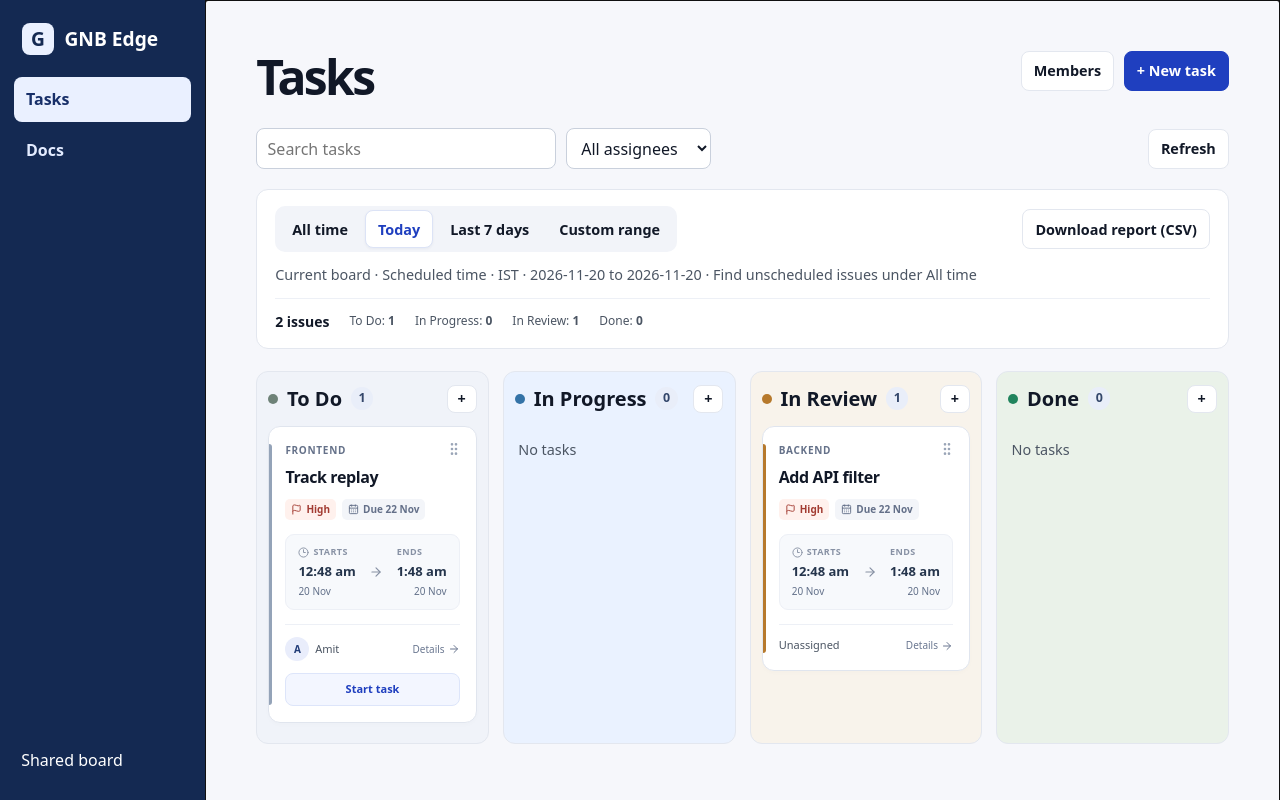
Test case: Existing board workflows in React › starts a task using its saved revision and updates the correct lane
Click the button "Start task" at (373,690), box [285, 673, 460, 706]
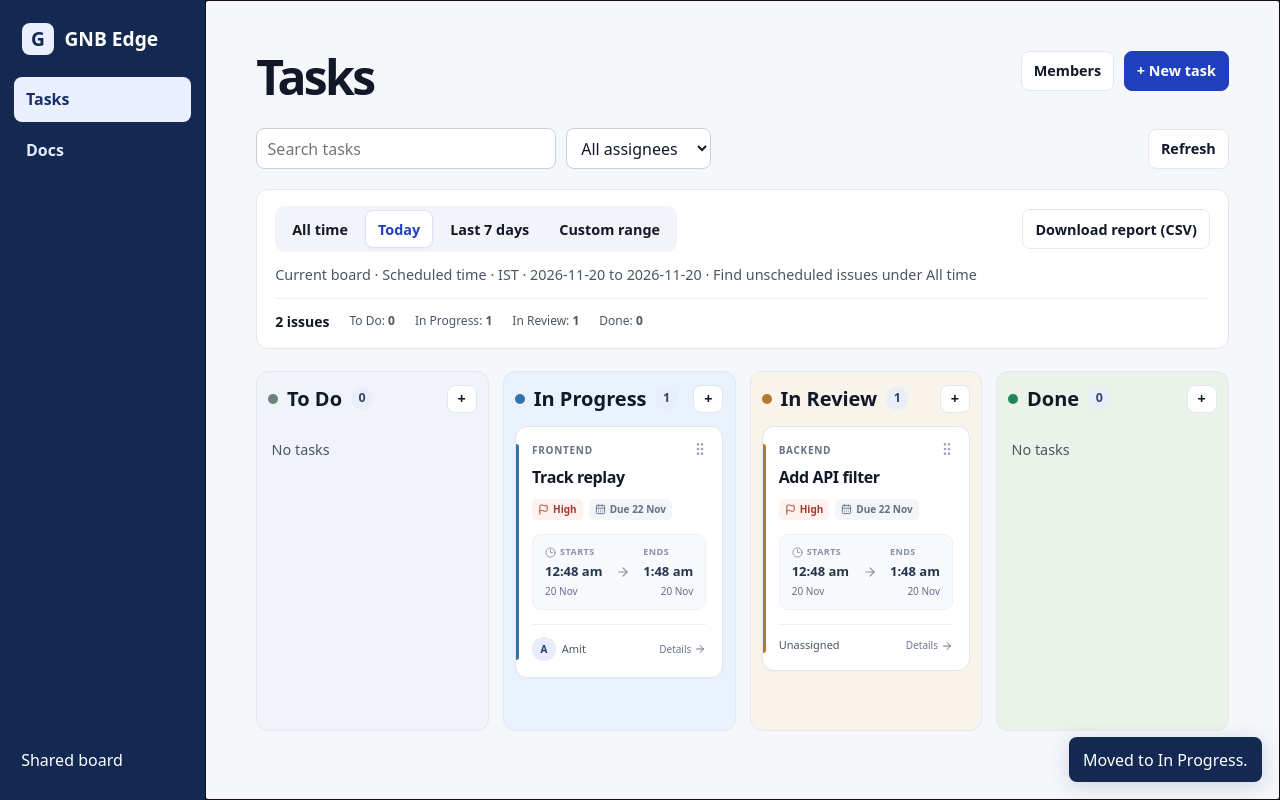
Check: the heading "Track replay" is shown, box [532, 466, 625, 488]
Check: the button "Start task" is gone
